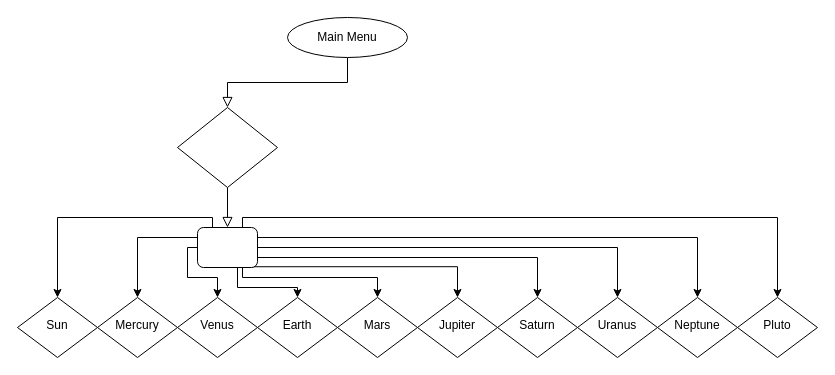
Image size: 835x375. Some labels were removed from this diagram. Each missing label, with the centre of its shape:
Space: (227,247)
Space Scene: (227,147)
